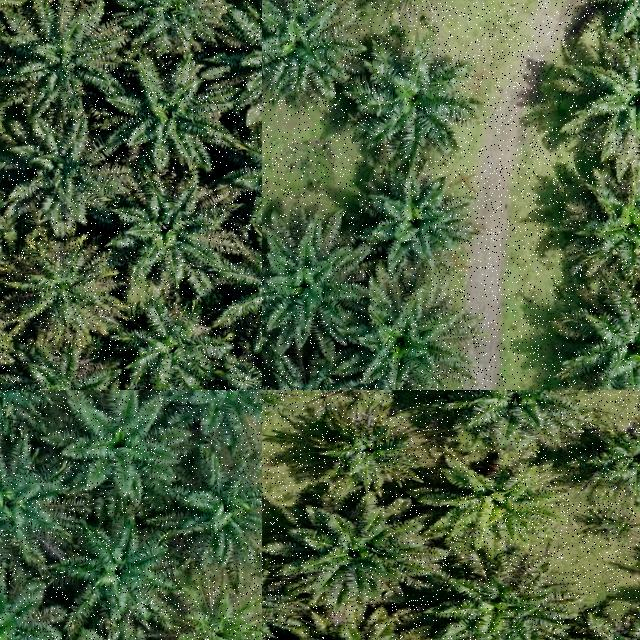Ganoderma: (443, 471, 548, 535), (185, 596, 260, 640)
